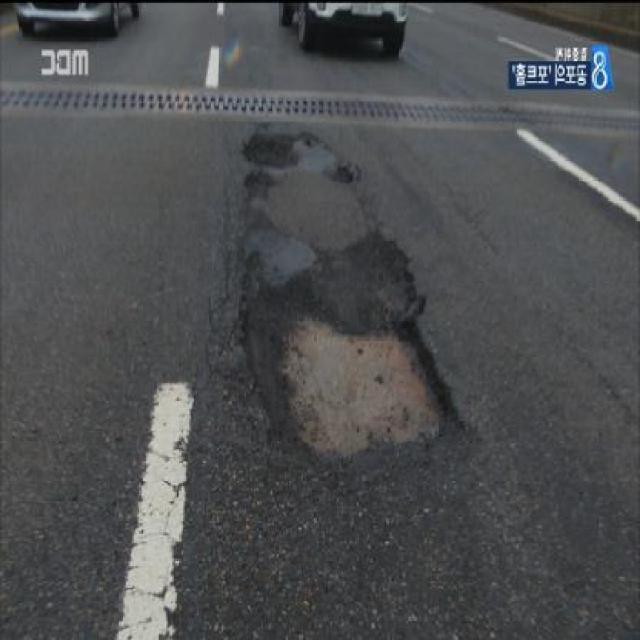pothole: (233, 266, 464, 480), (239, 128, 307, 174), (323, 160, 360, 191), (241, 166, 272, 195)
